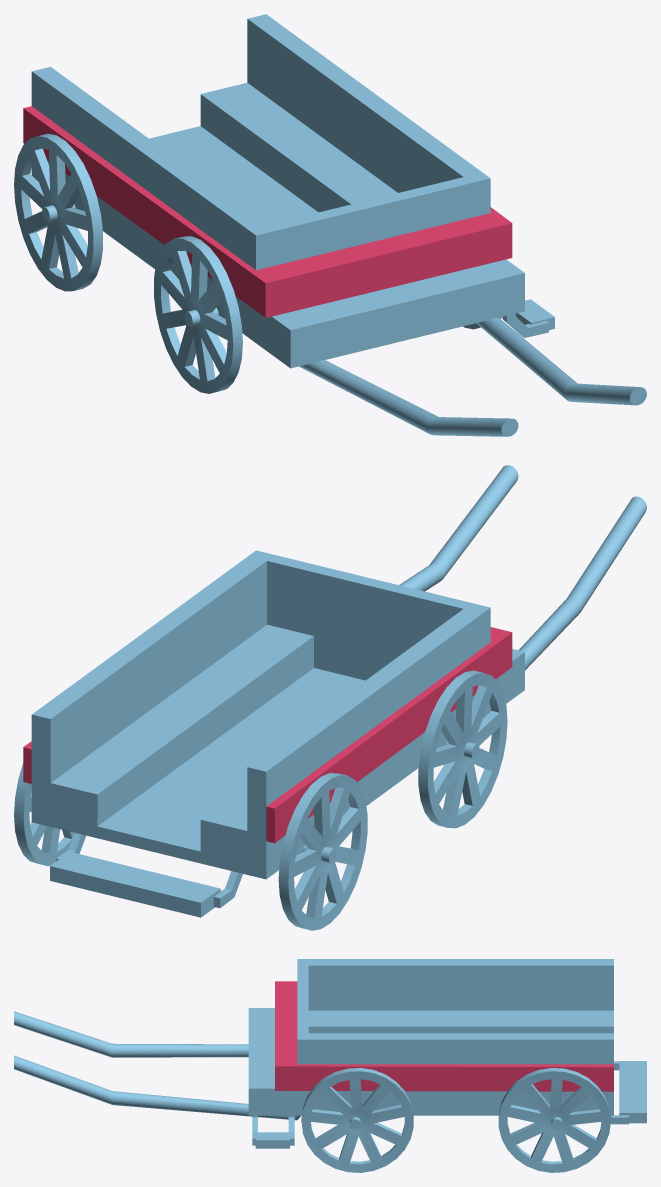
File: Carro.fbx
The picture shows the model from 3 angles, top to bottom: view 1: azimuth 30°, elevation 25°; view 2: azimuth 150°, elevation 25°; view 3: azimuth 270°, elevation 25°; orthographic projection. The views are drawn at different scales.
Parts seen in each view (by area): view 1: Cube; view 2: Cube; view 3: Cube.
Part boxes in pixels (x1=…): Cube: x1=14, y1=14, x2=646, y2=436; Cube: x1=14, y1=465, x2=646, y2=930; Cube: x1=14, y1=959, x2=646, y2=1172.
Size of the model in its own units: 245 by 142 by 644.
